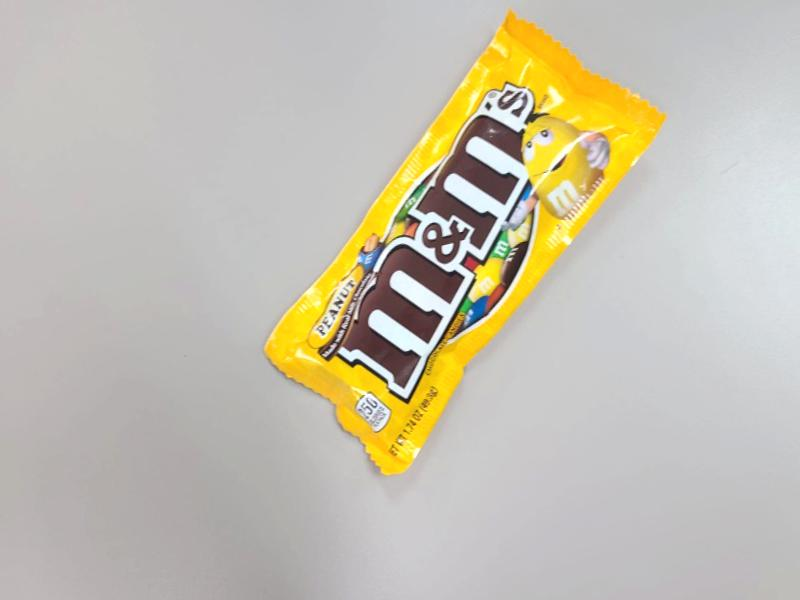m&m: (367, 157, 718, 534)
